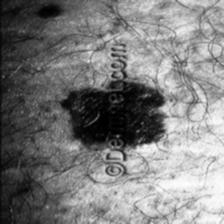Potentially Malignant Skin Tumors: (60, 80, 168, 154)
